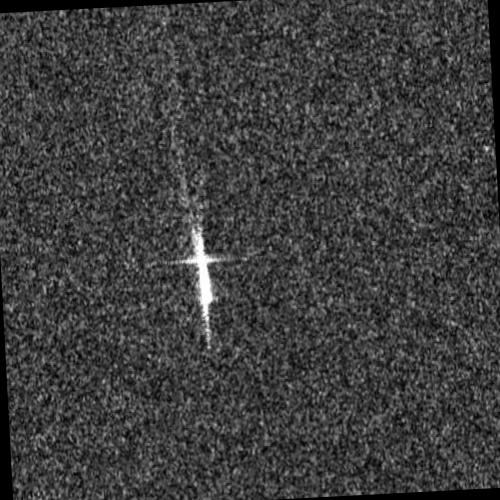ship: (190, 223, 214, 314)
